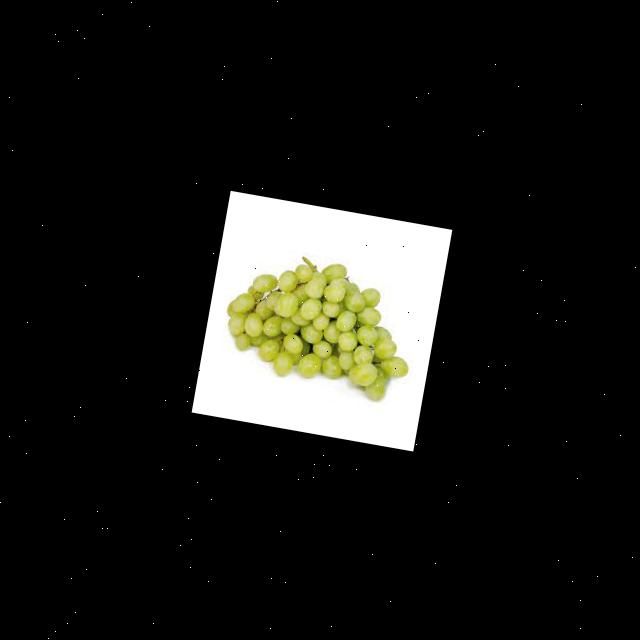grape: (214, 243, 424, 405)
